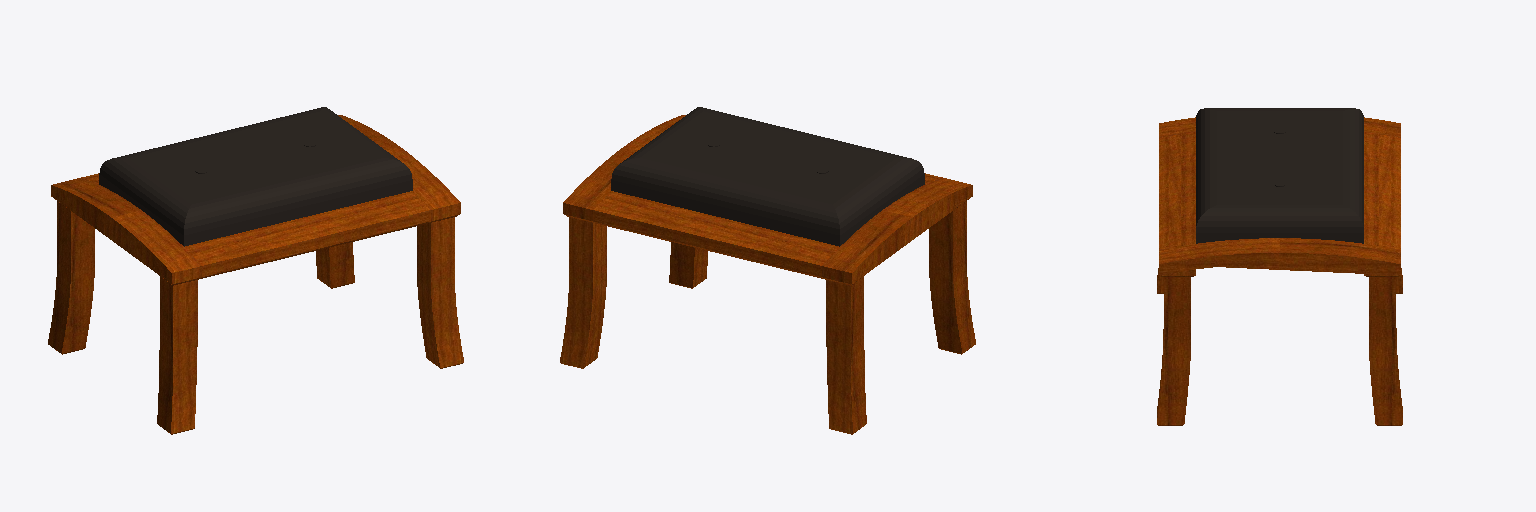
3 views of the same model, side by side, from view 1: azimuth 30°, elevation 25°; view 2: azimuth 150°, elevation 25°; view 3: azimuth 270°, elevation 25° (orthographic).
Parts seen in each view (by area): view 1: Mesh9 EZO1 Model, Mesh4 Component_25_2 EZO1 Model, Mesh2 Component_24_2 EZO1 Model, Mesh6 Component_26_2 EZO1 Model, Mesh5 Component_26_1 EZO1 Model, Mesh8 Component_26_4 EZO1 Model, Mesh1 Component_24_1 EZO1 Model, Mesh7 Component_26_3 EZO1 Model; view 2: Mesh9 EZO1 Model, Mesh3 Component_25_1 EZO1 Model, Mesh2 Component_24_2 EZO1 Model, Mesh8 Component_26_4 EZO1 Model, Mesh7 Component_26_3 EZO1 Model, Mesh6 Component_26_2 EZO1 Model, Mesh1 Component_24_1 EZO1 Model, Mesh5 Component_26_1 EZO1 Model; view 3: Mesh9 EZO1 Model, Mesh1 Component_24_1 EZO1 Model, Mesh4 Component_25_2 EZO1 Model, Mesh3 Component_25_1 EZO1 Model, Mesh7 Component_26_3 EZO1 Model, Mesh5 Component_26_1 EZO1 Model, Mesh2 Component_24_2 EZO1 Model.
Part boxes in pixels (bbox=[...]): Mesh9 EZO1 Model: bbox=[99, 107, 412, 246]; Mesh4 Component_25_2 EZO1 Model: bbox=[154, 191, 459, 285]; Mesh2 Component_24_2 EZO1 Model: bbox=[51, 178, 201, 283]; Mesh6 Component_26_2 EZO1 Model: bbox=[157, 276, 197, 434]; Mesh5 Component_26_1 EZO1 Model: bbox=[417, 217, 463, 368]; Mesh8 Component_26_4 EZO1 Model: bbox=[48, 201, 94, 354]; Mesh1 Component_24_1 EZO1 Model: bbox=[338, 115, 460, 220]; Mesh7 Component_26_3 EZO1 Model: bbox=[316, 242, 354, 288]; Mesh9 EZO1 Model: bbox=[611, 107, 924, 246]; Mesh3 Component_25_1 EZO1 Model: bbox=[564, 191, 869, 285]; Mesh2 Component_24_2 EZO1 Model: bbox=[822, 178, 972, 283]; Mesh8 Component_26_4 EZO1 Model: bbox=[826, 276, 866, 434]; Mesh7 Component_26_3 EZO1 Model: bbox=[560, 217, 606, 368]; Mesh6 Component_26_2 EZO1 Model: bbox=[929, 201, 975, 354]; Mesh1 Component_24_1 EZO1 Model: bbox=[563, 115, 685, 220]; Mesh5 Component_26_1 EZO1 Model: bbox=[669, 242, 707, 288]; Mesh9 EZO1 Model: bbox=[1196, 108, 1363, 243]; Mesh1 Component_24_1 EZO1 Model: bbox=[1159, 238, 1400, 275]; Mesh4 Component_25_2 EZO1 Model: bbox=[1159, 132, 1195, 276]; Mesh3 Component_25_1 EZO1 Model: bbox=[1364, 132, 1400, 276]; Mesh7 Component_26_3 EZO1 Model: bbox=[1369, 277, 1402, 425]; Mesh5 Component_26_1 EZO1 Model: bbox=[1157, 277, 1190, 425]; Mesh2 Component_24_2 EZO1 Model: bbox=[1159, 117, 1400, 137].
Bounding box in the file's own units: 24.38 × 15.68 × 17.75.
2 materials, 1 textured.